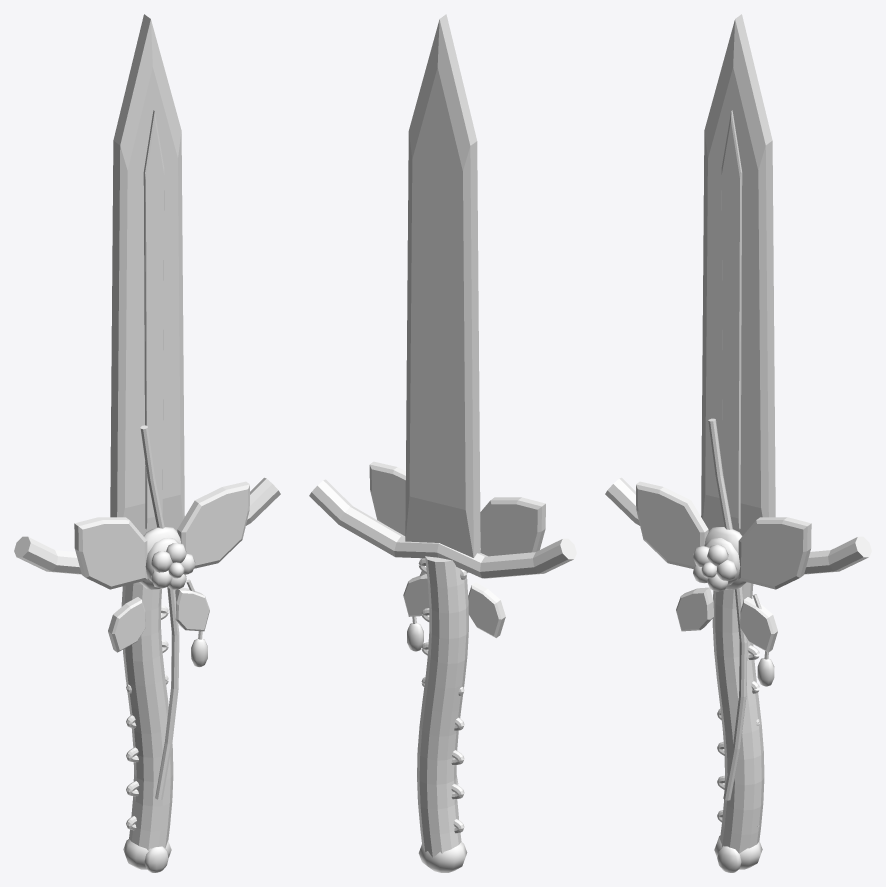
File: sword.obj
The picture shows the model from 3 angles, left to right: view 1: azimuth 30°, elevation 25°; view 2: azimuth 150°, elevation 25°; view 3: azimuth 330°, elevation 25°; orthographic projection.
Size of the model in its own units: 0.3839 by 1.19 by 0.1089.
